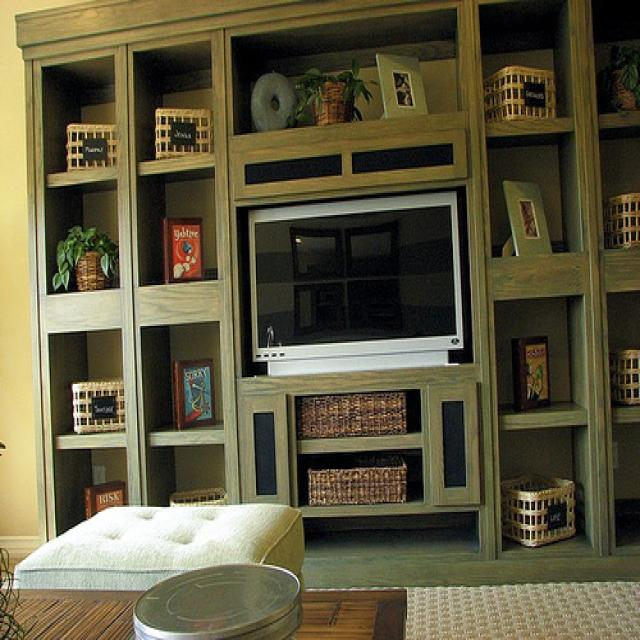pottedplant: (285, 58, 383, 128), (51, 223, 119, 298), (599, 42, 640, 119)
tvmonitor: (247, 189, 466, 378)
